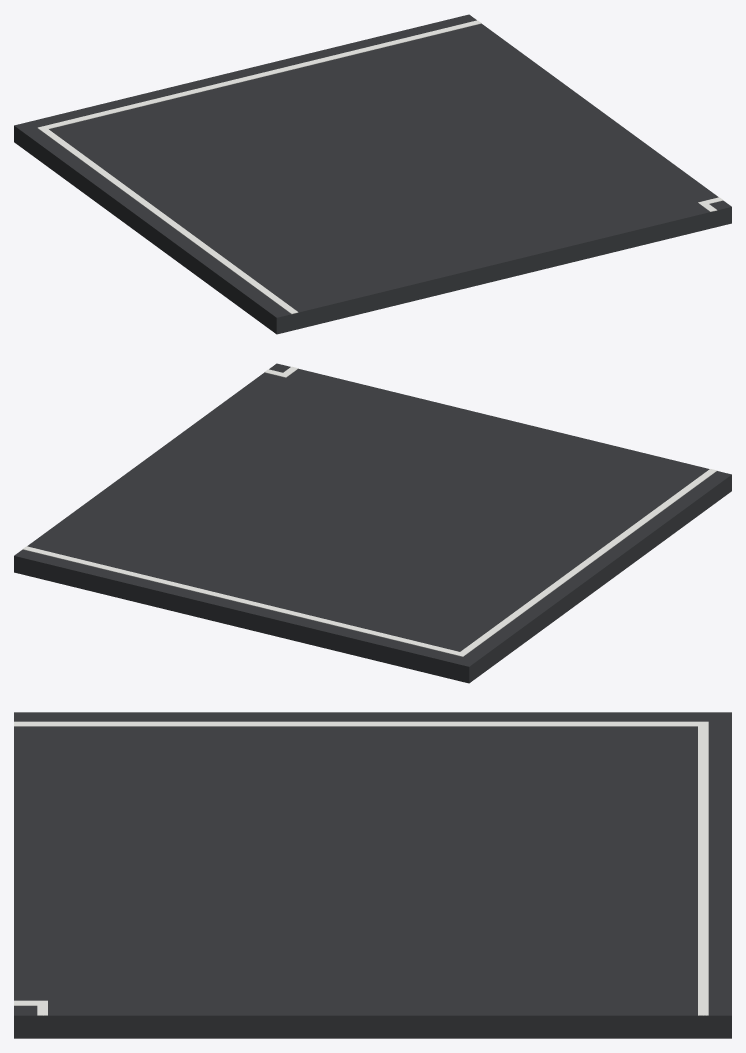
Rendered from Scenery_Road_Corner.fbx.
The picture shows the model from 3 angles, top to bottom: view 1: azimuth 30°, elevation 25°; view 2: azimuth 150°, elevation 25°; view 3: azimuth 270°, elevation 25°; orthographic projection. The views are drawn at different scales.
Visible parts, largest first — view 1: Scenery_Road_Corner; view 2: Scenery_Road_Corner; view 3: Scenery_Road_Corner.
Part boxes in pixels (x1,y1,x2,y2): Scenery_Road_Corner: (14, 14, 731, 334); Scenery_Road_Corner: (14, 363, 731, 683); Scenery_Road_Corner: (14, 712, 731, 1038).
Bounding box in the file's own units: 10 × 0.36 × 10.
